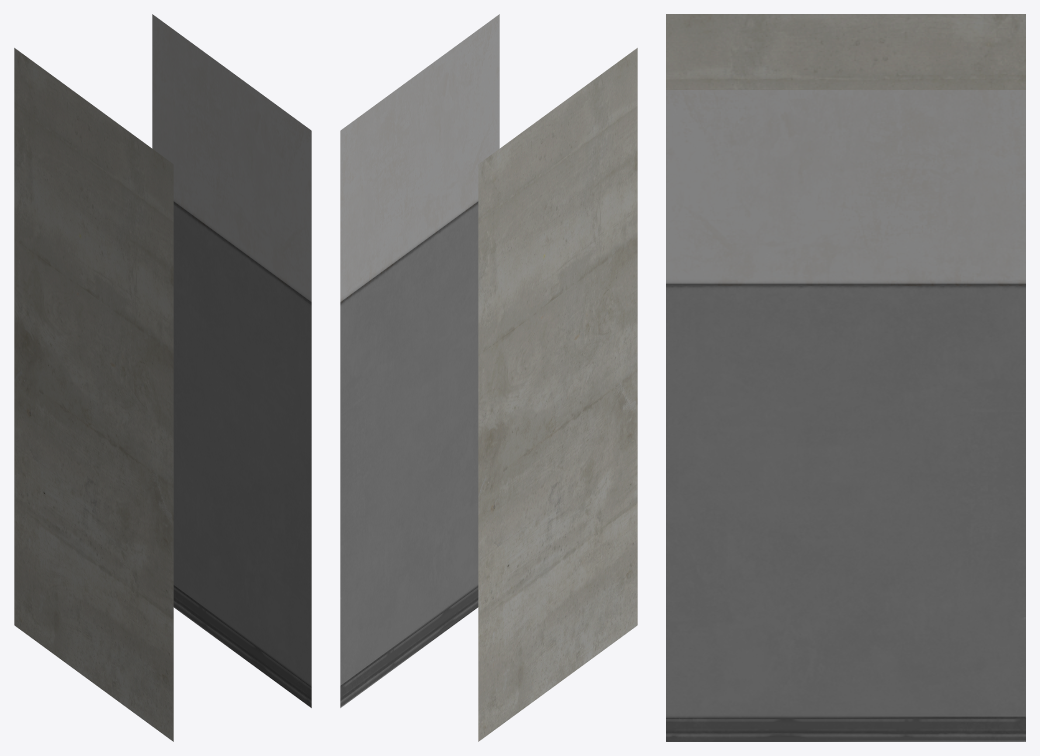
File: HH_Hospital_InteriorWall_1x2m.fbx
The picture shows the model from 3 angles, left to right: view 1: azimuth 30°, elevation 25°; view 2: azimuth 150°, elevation 25°; view 3: azimuth 270°, elevation 25°; orthographic projection. The views are drawn at different scales.
Visible parts, largest first — view 1: HH_Hospital_InteriorWall_1x2m; view 2: HH_Hospital_InteriorWall_1x2m; view 3: HH_Hospital_InteriorWall_1x2m.
Part boxes in pixels (<box>): HH_Hospital_InteriorWall_1x2m: <box>14,14,311,741</box>; HH_Hospital_InteriorWall_1x2m: <box>340,14,637,741</box>; HH_Hospital_InteriorWall_1x2m: <box>666,14,1025,741</box>.
Size of the model in its own units: 50 by 200 by 100.
